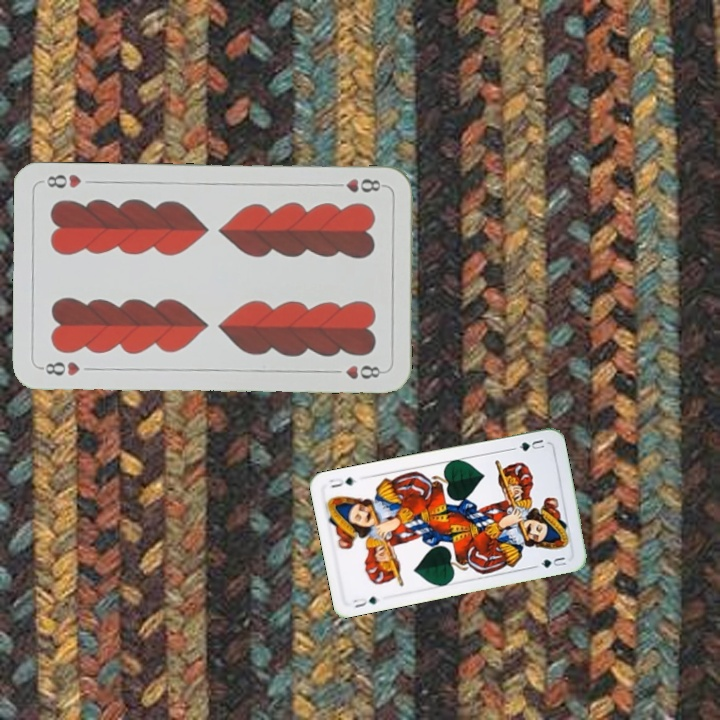GU: (509, 435, 547, 454), (349, 592, 382, 610)
H8: (328, 175, 387, 195), (37, 357, 83, 378)
